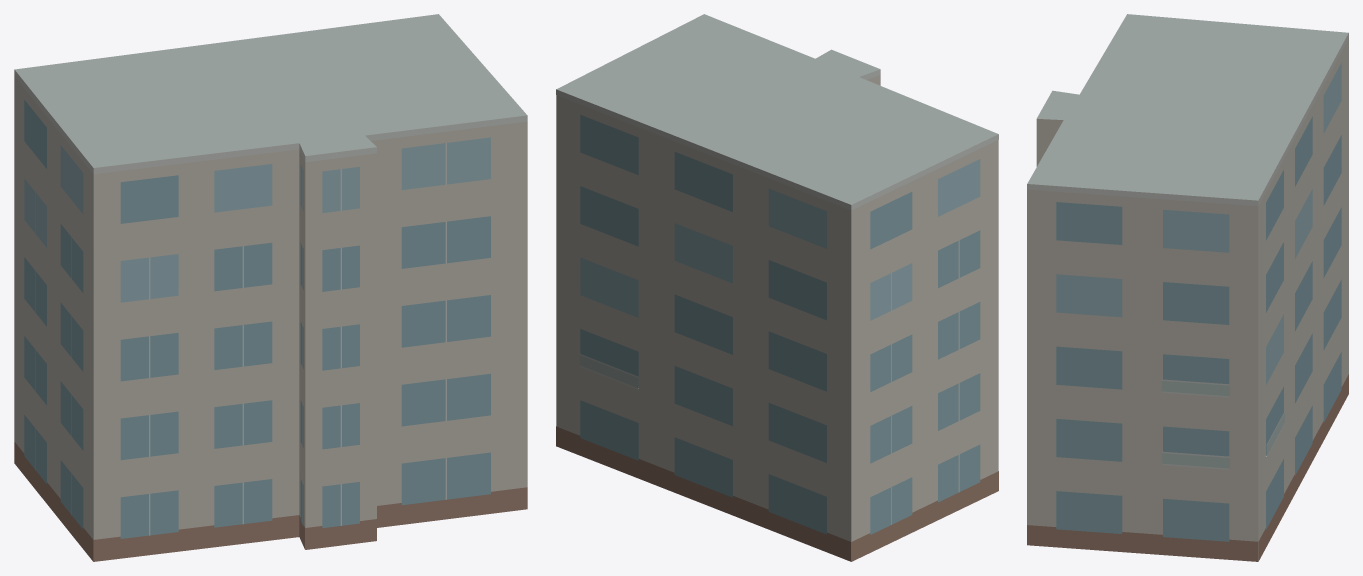
The model's file is survey-upis-32914418.glb.
3 views of the same model, side by side, from view 1: azimuth 30°, elevation 25°; view 2: azimuth 150°, elevation 25°; view 3: azimuth 270°, elevation 25° (orthographic). The views are drawn at different scales.
Visible parts, largest first — view 1: survey-upis-32914418.tmp; view 2: survey-upis-32914418.tmp; view 3: survey-upis-32914418.tmp.
Boxes of the visible parts, <box> form: survey-upis-32914418.tmp: <box>14,14,527,561</box>; survey-upis-32914418.tmp: <box>556,14,998,561</box>; survey-upis-32914418.tmp: <box>1027,14,1348,561</box>.
Bounding box in the file's own units: 17.4 × 15.7 × 12.68.
